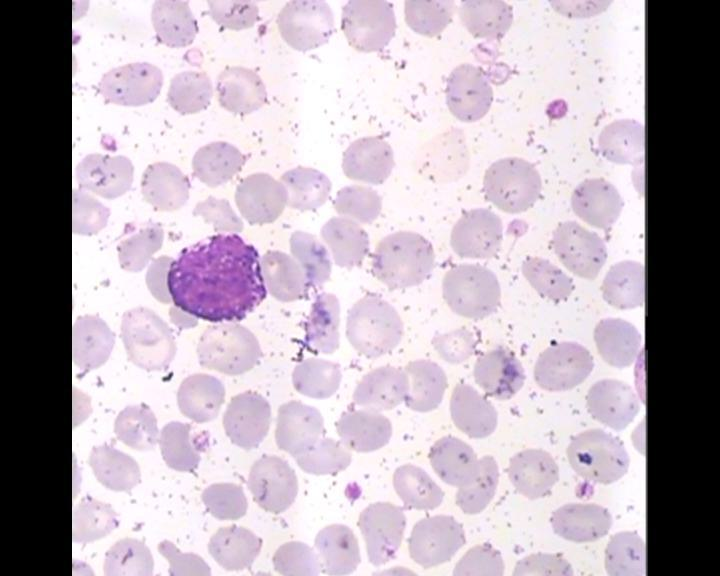baso: (163, 229, 268, 327)
